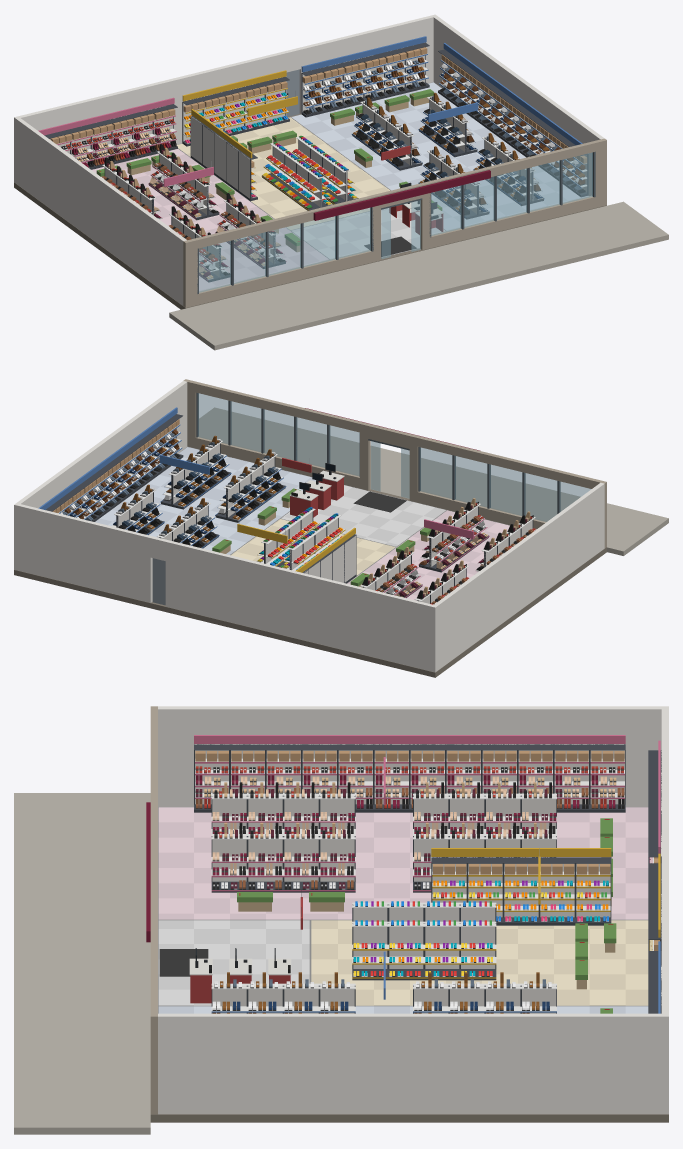
File: vzuttia_zal.dae
3 renders of one model, top to bottom at view 1: azimuth 30°, elevation 25°; view 2: azimuth 150°, elevation 25°; view 3: azimuth 270°, elevation 25°, orthographic. The views are drawn at different scales.
Parts seen in each view (by area): view 1: Фасадна стіна з дверним прорізом 2,0 м і вітринами, Стіни, Тротуар, Підлога — Чоловічий відділ, Підлога — Жіночий відділ, Підлога — Дитячий відділ, Підлога — Вхідна і касова зона, Плита основи, Підвісні покажчики відділів, Вивіска «Взуття», 1.30 Пристінний стелаж — Чоловічий відділ, 1.34 Пристінний стелаж — Чоловічий відділ (+53 smaller); view 2: Стіни, Фасадна стіна з дверним прорізом 2,0 м і вітринами, Тротуар, Підлога — Чоловічий відділ, Плита основи, Підлога — Вхідна і касова зона, Підлога — Жіночий відділ, Підвісні покажчики відділів, Підлога — Дитячий відділ, 2.24 Острівний двосторонній стелаж — Чоловічий відділ, 2.16 Острівний двосторонній стелаж — Жіночий відділ, 2.31 Острівний двосторонній стелаж — Чоловічий відділ (+31 smaller); view 3: Стіни, Тротуар, Підлога — Жіночий відділ, Підлога — Дитячий відділ, Підлога — Вхідна і касова зона, Плита основи, Фасадна стіна з дверним прорізом 2,0 м і вітринами, 1.19 Пристінний стелаж — Жіночий відділ, 1.29 Пристінний стелаж — Дитячий відділ, 1.28 Пристінний стелаж — Дитячий відділ, 1.27 Пристінний стелаж — Дитячий відділ, 1.13 Пристінний стелаж — Жіночий відділ (+49 smaller).
Boxes of the visible parts, x1,y1,x2,y2 form: Фасадна стіна з дверним прорізом 2,0 м і вітринами: (183,138,606,307); Стіни: (14,14,604,305); Тротуар: (169,201,668,350); Підлога — Чоловічий відділ: (291,82,588,230); Підлога — Жіночий відділ: (92,148,329,291); Підлога — Дитячий відділ: (176,117,390,230); Підлога — Вхідна і касова зона: (291,208,445,259); Плита основи: (14,114,606,309); Підвісні покажчики відділів: (163,91,478,186); Вивіска «Взуття»: (313,170,490,220); 1.30 Пристінний стелаж — Чоловічий відділ: (301,61,326,117); 1.34 Пристінний стелаж — Чоловічий відділ: (384,41,408,97); Стіни: (14,381,604,672); Фасадна стіна з дверним прорізом 2,0 м і вітринами: (183,379,606,547); Тротуар: (199,407,668,555); Підлога — Чоловічий відділ: (95,446,315,554); Плита основи: (14,489,606,677); Підлога — Вхідна і касова зона: (280,485,446,546); Підлога — Жіночий відділ: (347,510,509,600); Підвісні покажчики відділів: (159,454,474,543); Підлога — Дитячий відділ: (230,518,395,575); 2.24 Острівний двосторонній стелаж — Чоловічий відділ: (215,475,250,522); 2.16 Острівний двосторонній стелаж — Жіночий відділ: (418,529,453,572); 2.31 Острівний двосторонній стелаж — Чоловічий відділ: (160,467,195,509); Стіни: (158,706,668,1114); Тротуар: (14,793,150,1134); Підлога — Жіночий відділ: (158,807,648,919); Підлога — Дитячий відділ: (310,920,648,1005); Підлога — Вхідна і касова зона: (158,920,310,1005); Плита основи: (150,949,668,1122); Фасадна стіна з дверним прорізом 2,0 м і вітринами: (150,706,157,1114); 1.19 Пристінний стелаж — Жіночий відділ: (589,735,625,812); 1.29 Пристінний стелаж — Дитячий відділ: (575,848,611,925); 1.28 Пристінний стелаж — Дитячий відділ: (539,848,575,925); 1.27 Пристінний стелаж — Дитячий відділ: (503,848,539,925); 1.13 Пристінний стелаж — Жіночий відділ: (374,735,409,812).
Bounding box in the file's own units: 22 × 18.2 × 3.25.
